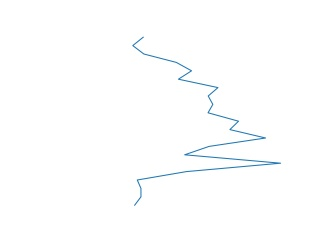floodSwamp: (129, 35, 283, 204)
